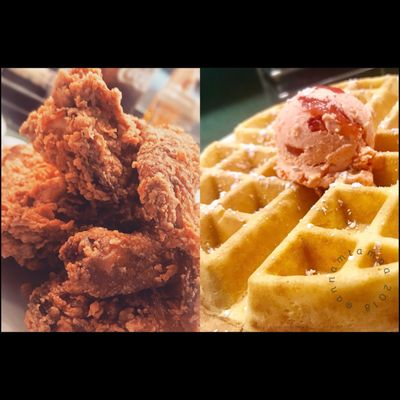soup: (199, 76, 398, 325)
